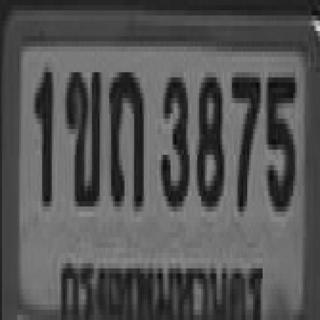A02: (63, 67, 100, 201)
A22: (107, 67, 142, 206)
N01: (33, 62, 52, 201)
N03: (159, 72, 188, 206)
N05: (264, 72, 295, 206)
N07: (230, 67, 259, 206)
N08: (195, 72, 222, 201)
P04: (56, 252, 268, 320)
